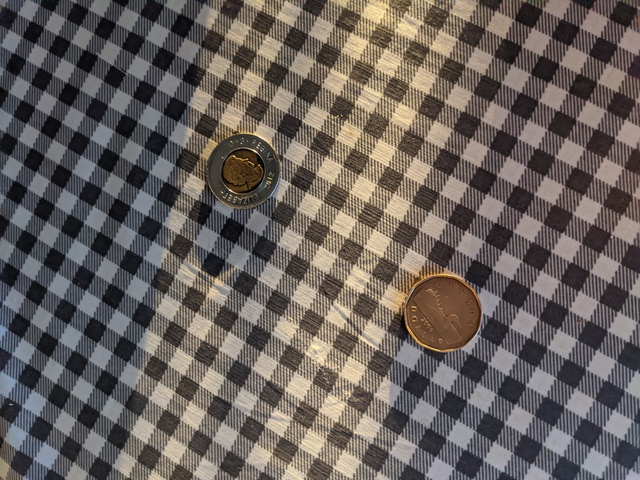loonie: (393, 259, 494, 355)
twonie: (213, 135, 284, 217)
